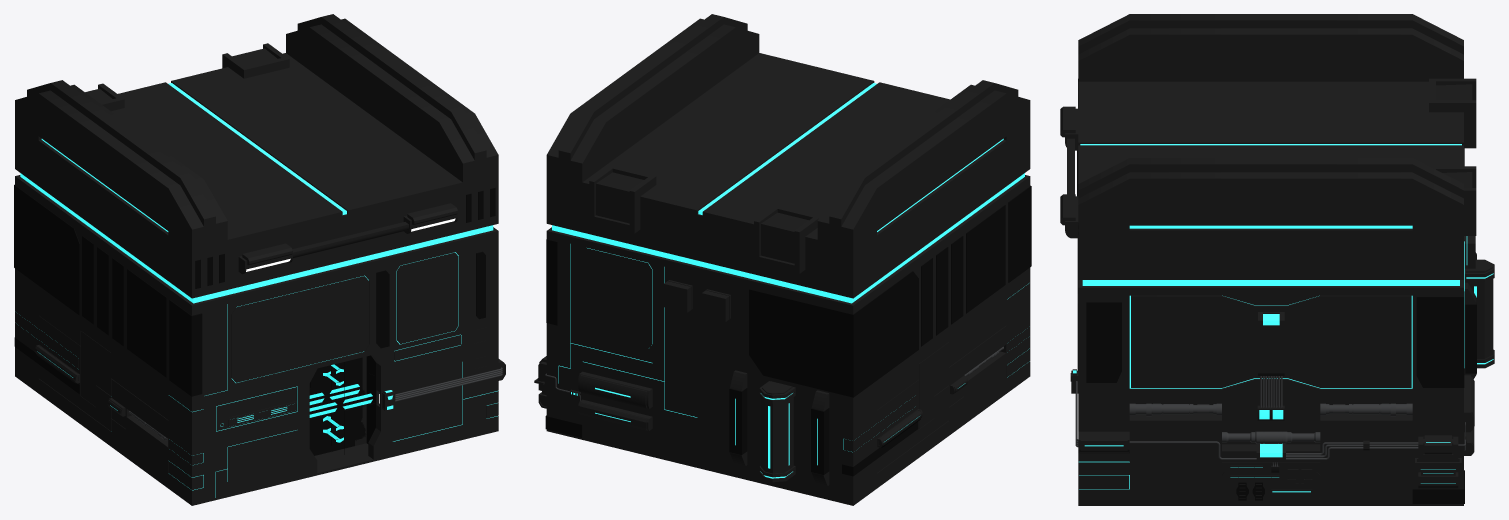
The model's file is Building-2.gltf.
3 views of the same model, side by side, from view 1: azimuth 30°, elevation 25°; view 2: azimuth 150°, elevation 25°; view 3: azimuth 270°, elevation 25° (orthographic). The views are drawn at different scales.
Visible parts, largest first — view 1: Core, DoorLeft, DoorRight, Pipe; view 2: Core; view 3: Core, Pipe7, Pipe3, Pipe9.
Boxes of the visible parts, x1=… form: Core: x1=14, y1=14, x2=505, y2=505; DoorLeft: x1=327, y1=355, x2=375, y2=454; DoorRight: x1=309, y1=366, x2=339, y2=455; Pipe: x1=395, y1=367, x2=502, y2=401; Core: x1=534, y1=14, x2=1031, y2=505; Core: x1=1060, y1=14, x2=1494, y2=505; Pipe7: x1=1129, y1=403, x2=1412, y2=466; Pipe3: x1=1286, y1=442, x2=1418, y2=459; Pipe9: x1=1260, y1=376, x2=1282, y2=407.
Size of the model in its own units: 15.89 by 14.39 by 16.89.
Materials: 5 (1 with a texture image).
